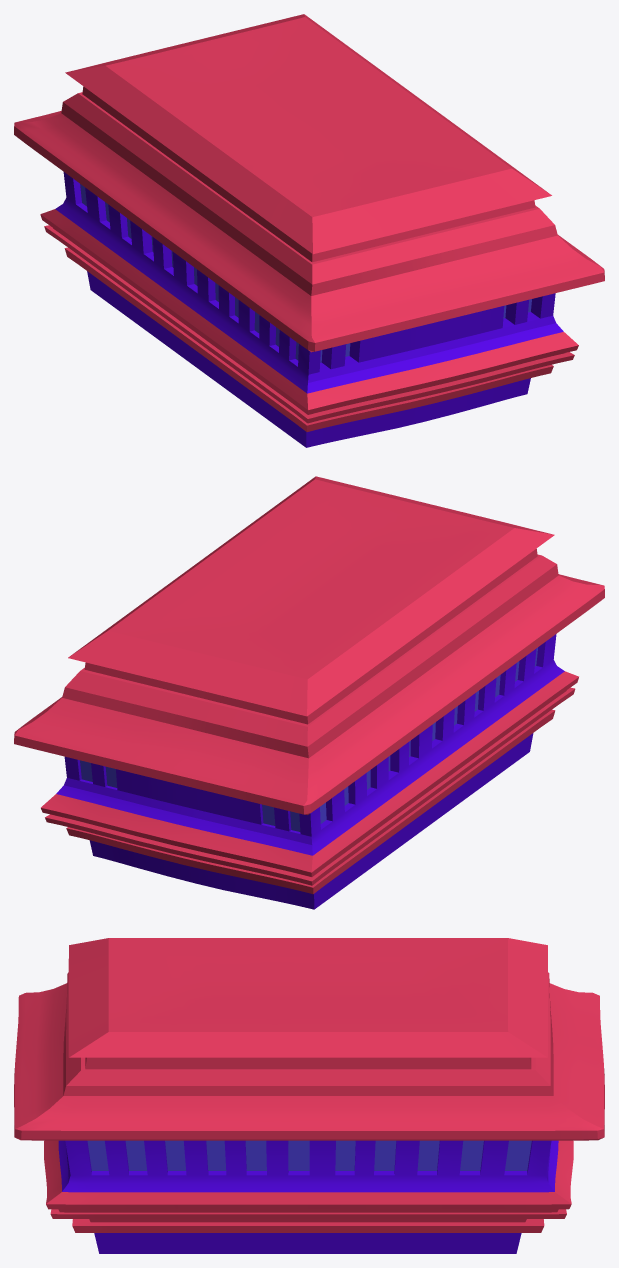
The model's file is FBX_LC_mHouse7.fbx.
The picture shows the model from 3 angles, top to bottom: view 1: azimuth 30°, elevation 25°; view 2: azimuth 150°, elevation 25°; view 3: azimuth 270°, elevation 25°; orthographic projection. The views are drawn at different scales.
Parts seen in each view (by area): view 1: Cube.035; view 2: Cube.035; view 3: Cube.035.
Boxes of the visible parts, <box> form: Cube.035: <box>14,14,604,447</box>; Cube.035: <box>14,476,604,909</box>; Cube.035: <box>14,938,604,1253</box>.
Size of the model in its own units: 1367 by 993 by 2452.
